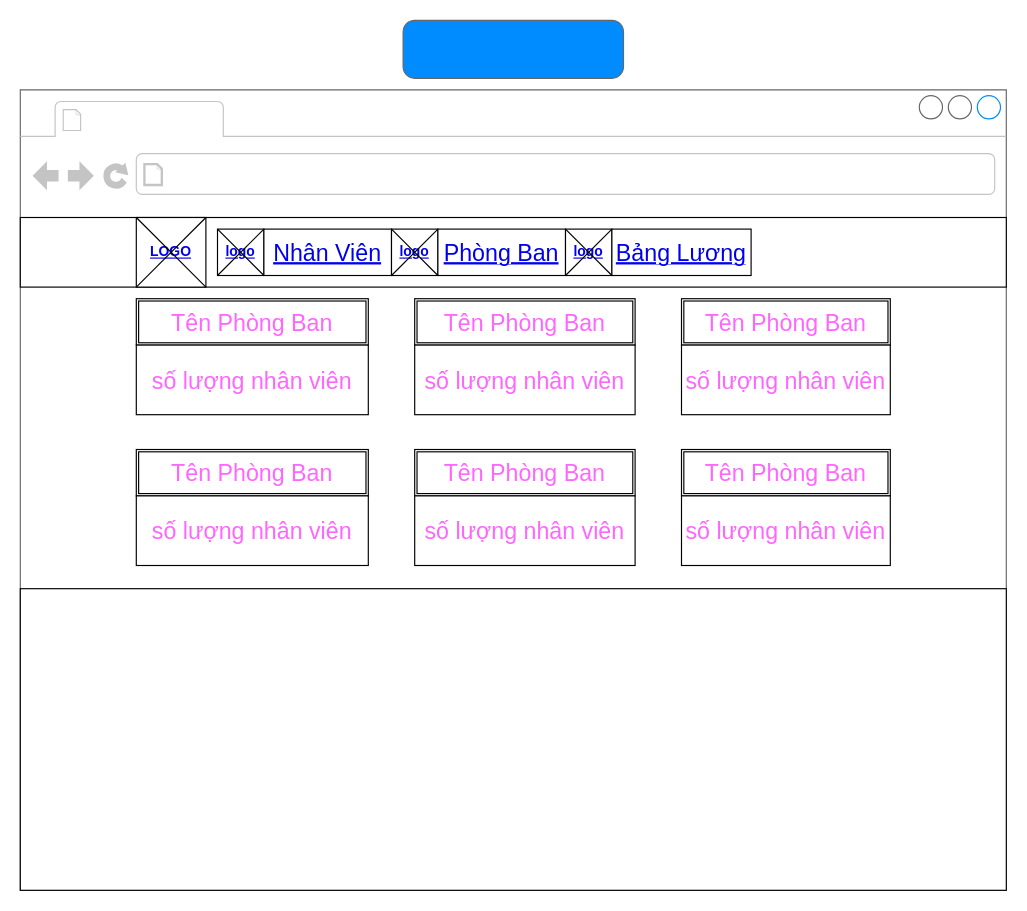
Some shapes in this 1027 by 911 pixel diagram are drawn without their labels. Each missing label, with the centre of its shape:
DEPARTMENTS PAGE: (513,40)
FOOTER: (512,739)
https://www.draw.io: (315,174)
Page 2: (153,118)
